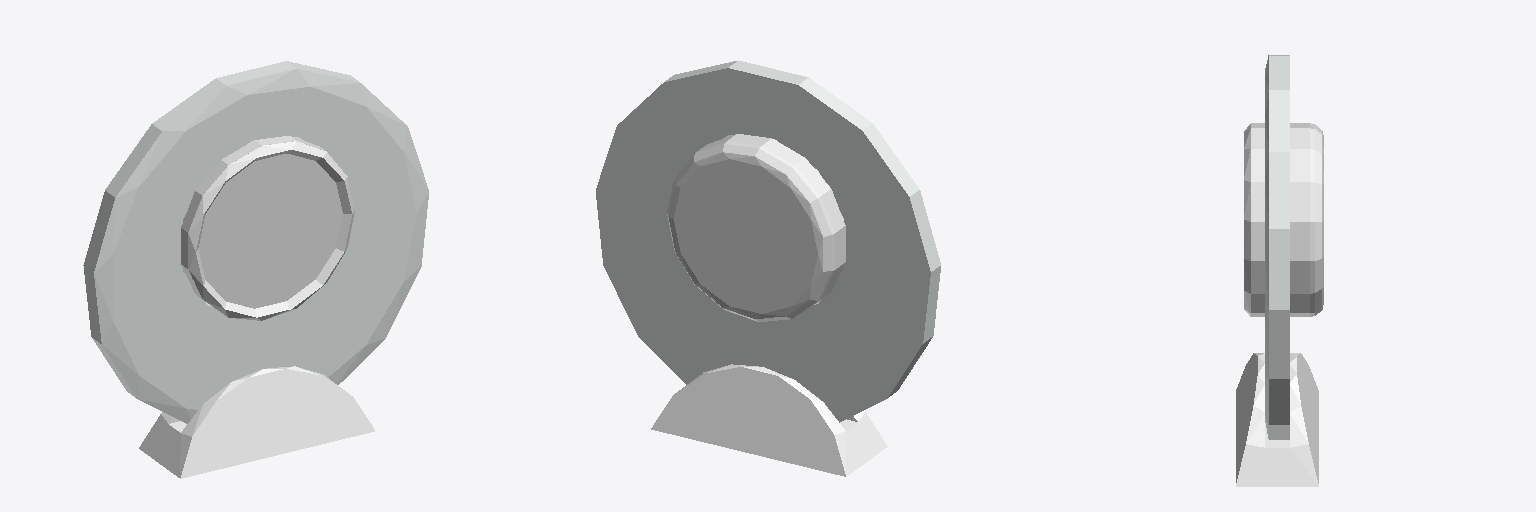
Rendered from clock.obj.
3 renders of one model, left to right at view 1: azimuth 30°, elevation 25°; view 2: azimuth 150°, elevation 25°; view 3: azimuth 270°, elevation 25°, orthographic.
Visible parts, largest first — view 1: Solid1:1, Solid1:4, Solid1, Solid1:2; view 2: Solid1:1, Solid1:2, Solid1; view 3: Solid1:2, Solid1:1, Solid1.
Boxes of the visible parts, x1,y1,x2,y2 form: Solid1:1: [83, 61, 428, 423]; Solid1:4: [188, 141, 354, 320]; Solid1: [139, 366, 374, 478]; Solid1:2: [181, 136, 354, 320]; Solid1:1: [596, 60, 940, 422]; Solid1:2: [667, 134, 845, 321]; Solid1: [651, 364, 887, 476]; Solid1:2: [1244, 123, 1323, 316]; Solid1:1: [1265, 55, 1289, 439]; Solid1: [1236, 353, 1318, 486].
Bounding box in the file's own units: 6.97 × 7.26 × 1.59.